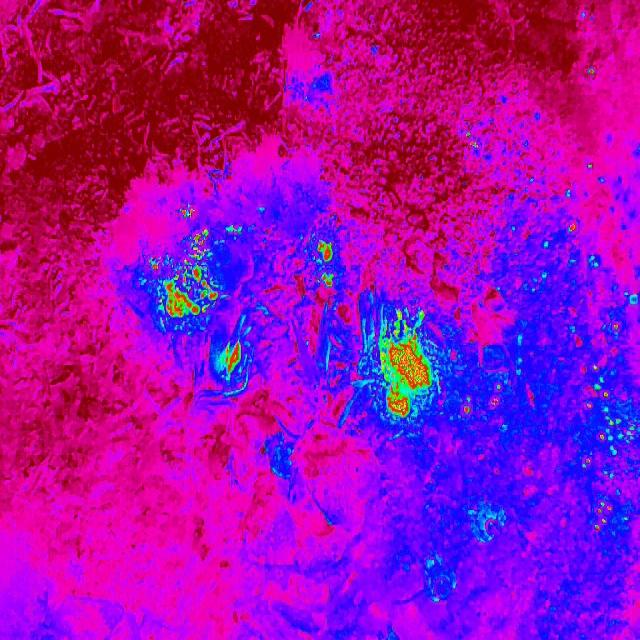fire: (557, 211, 640, 544), (369, 312, 442, 422), (144, 226, 222, 324), (308, 235, 344, 290), (458, 380, 504, 422), (217, 336, 246, 382), (174, 202, 200, 224)
